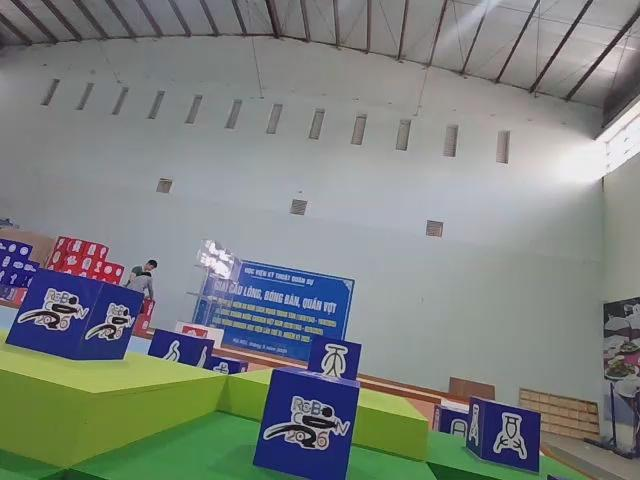R1 Blue: (5, 269, 144, 363), (252, 368, 359, 480)
R2 Fake Blue: (307, 337, 363, 384), (430, 404, 470, 436)
R2 Real Blue: (465, 397, 542, 475), (150, 331, 217, 372)
